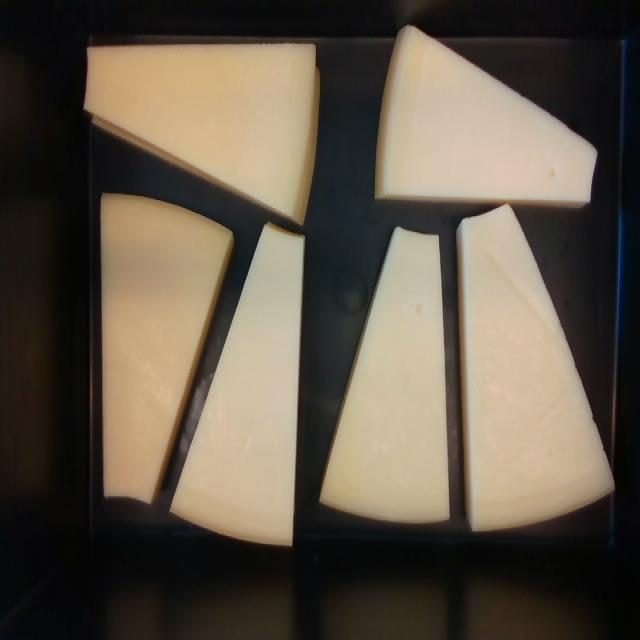cheese: (459, 209, 611, 528), (172, 225, 303, 544), (85, 45, 318, 220), (102, 195, 232, 501), (376, 27, 595, 203), (321, 232, 448, 521)
